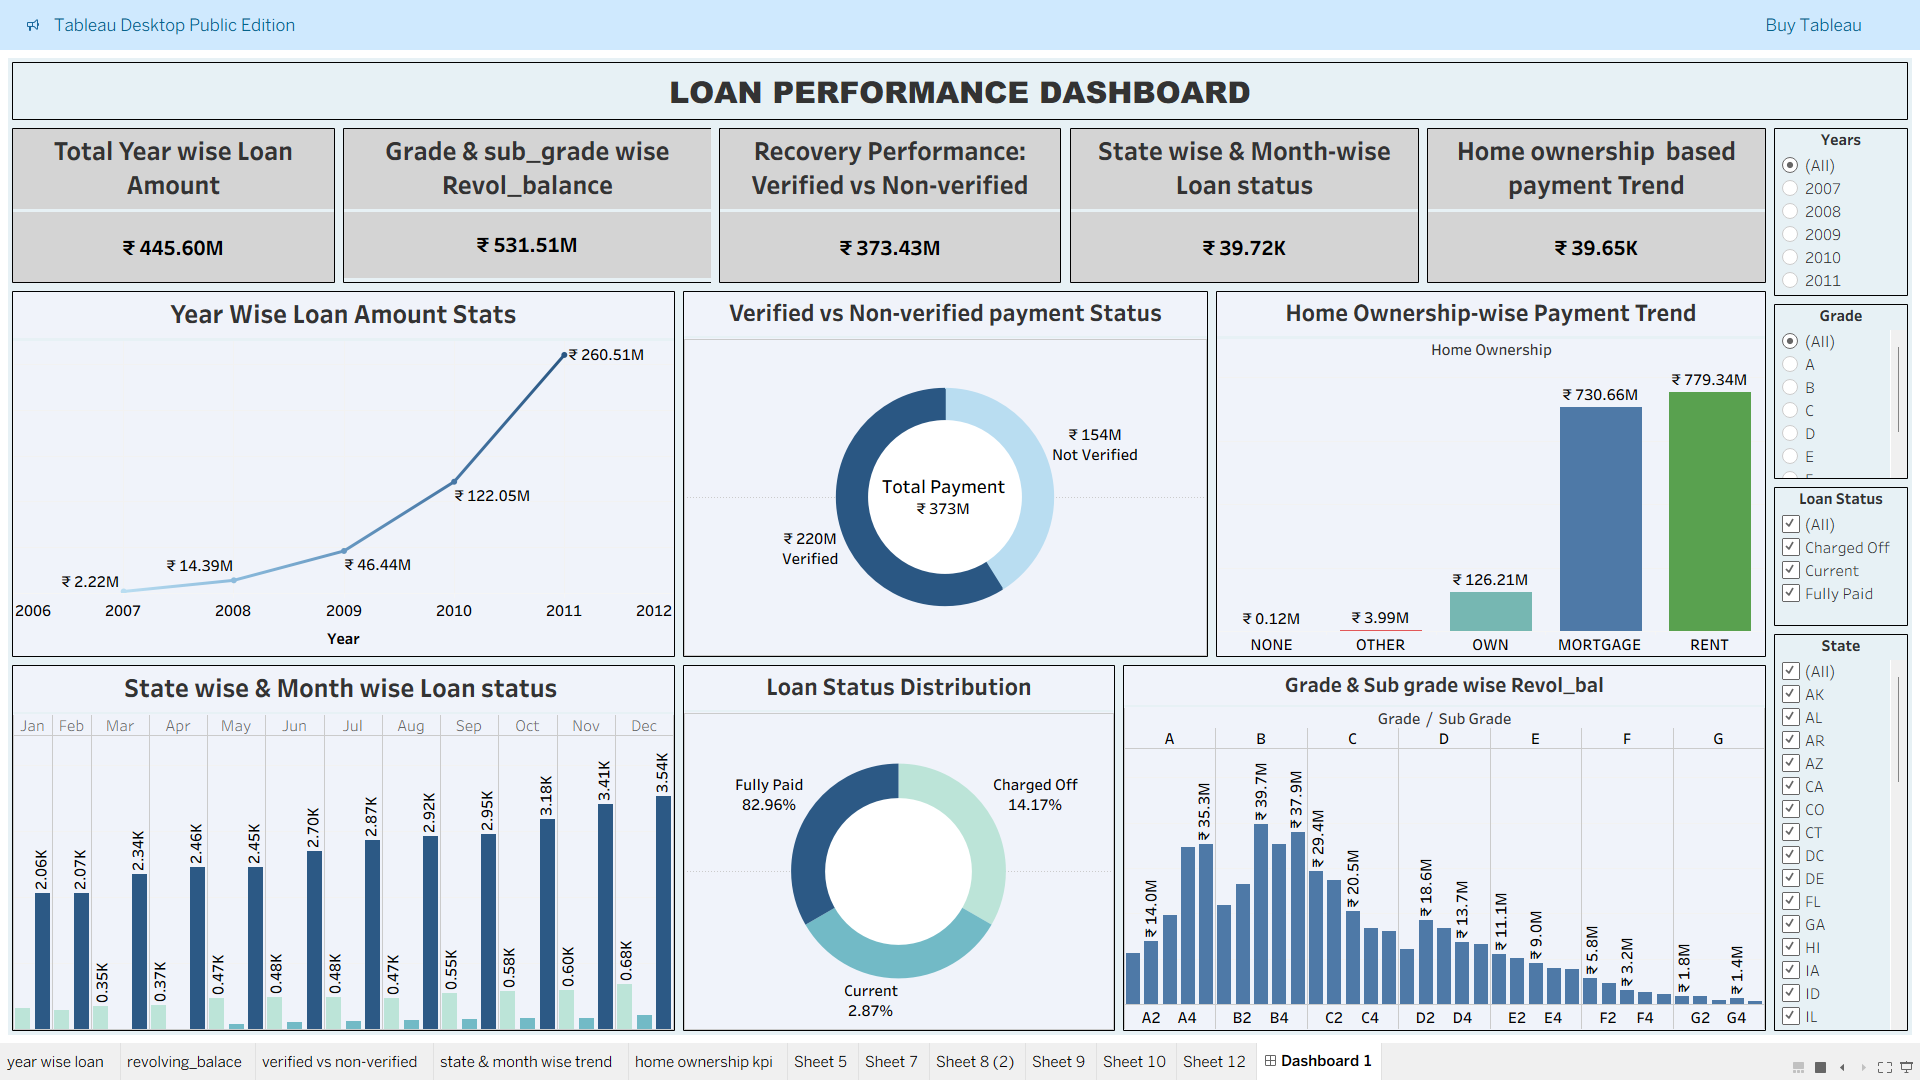

The dashboard page shown, as its layout file describes it:
{"tool":"tableau","page":{"name":"Dashboard 1","canvas":[1000,1000],"units":"permille","ordinal":0},"visuals":[{"type":"title","box":[4.8,10,990.3,82.4]},{"type":"worksheet","title":"year wise loan ","mark":"Automatic","box":[4.8,92.4,169.8,160.2]},{"type":"worksheet","title":"revolving_balace","mark":"Automatic","box":[174.6,92.4,193.3,160.2]},{"type":"worksheet","title":"verified vs non-verified","mark":"Automatic","box":[368,92.4,179.8,160.2]},{"type":"worksheet","title":"state & month wise trend","mark":"Automatic","box":[547.8,92.4,183.5,160.2]},{"type":"worksheet","title":"home ownership kpi","mark":"Automatic","box":[731.3,92.4,178.2,160.2]},{"type":"filter","title":"Sheet 7","param":"[federated.1mu3b8m0d0jlrc12s22qq00wwjo0].[none:Year:ok]","box":[909.5,92.4,85.7,219.7]},{"type":"worksheet","title":"Sheet 7","mark":"Line","rows":["loan_amnt"],"cols":["Year"],"box":[4.8,252.5,344.4,368.7]},{"type":"worksheet","title":"Sheet 8 (2)","mark":"Automatic","rows":["Calculation_1187252375818261","Calculation_1187252373209096"],"box":[349.3,252.5,273.9,368.7]},{"type":"worksheet","title":"Sheet 5","mark":"Automatic","rows":["last_pymnt_d"],"cols":["home_ownership"],"box":[623.1,252.5,286.3,368.7]},{"type":"filter","title":"Sheet 10","param":"[federated.1mu3b8m0d0jlrc12s22qq00wwjo0].[none:grade:nk]","box":[909.5,312.1,85.7,228.5]},{"type":"filter","title":"Sheet 9","param":"[federated.1mu3b8m0d0jlrc12s22qq00wwjo0].[none:loan_status:nk]","box":[909.5,540.6,85.7,183.5]},{"type":"worksheet","title":"Sheet 9","mark":"Automatic","rows":["Calculation_1187252359692294"],"cols":["Month","loan_status"],"box":[4.8,621.2,344.4,368.8]},{"type":"worksheet","title":"Sheet 12","mark":"Automatic","rows":["Calculation_1187252373209096","Calculation_1187252373209096"],"box":[349.3,621.2,225.8,368.8]},{"type":"worksheet","title":"Sheet 10","mark":"Automatic","rows":["revol_bal"],"cols":["grade","sub_grade"],"box":[575,621.2,334.5,368.8]},{"type":"filter","title":"Sheet 9","param":"[federated.1mu3b8m0d0jlrc12s22qq00wwjo0].[none:addr_state:nk]","box":[909.5,724.1,85.7,265.9]}]}

Visuals, with their boxes on the dashboard's canvas, which has no fixed pixel size, in thousandths of its width and height (x1, y1, x2, y2). These are canvas units, not pixel positions in the 1920x1080 screenshot, which may show the page scaled, cropped or inside an application window:
title: l=5, t=10, r=995, b=92
"year wise loan " worksheet: l=5, t=92, r=175, b=253
"revolving_balace" worksheet: l=175, t=92, r=368, b=253
"verified vs non-verified" worksheet: l=368, t=92, r=548, b=253
"state & month wise trend" worksheet: l=548, t=92, r=731, b=253
"home ownership kpi" worksheet: l=731, t=92, r=910, b=253
"Sheet 7" filter: l=910, t=92, r=995, b=312
"Sheet 7" worksheet (Line marks): l=5, t=252, r=349, b=621
"Sheet 8 (2)" worksheet: l=349, t=252, r=623, b=621
"Sheet 5" worksheet: l=623, t=252, r=909, b=621
"Sheet 10" filter: l=910, t=312, r=995, b=541
"Sheet 9" filter: l=910, t=541, r=995, b=724
"Sheet 9" worksheet: l=5, t=621, r=349, b=990
"Sheet 12" worksheet: l=349, t=621, r=575, b=990
"Sheet 10" worksheet: l=575, t=621, r=910, b=990
"Sheet 9" filter: l=910, t=724, r=995, b=990
